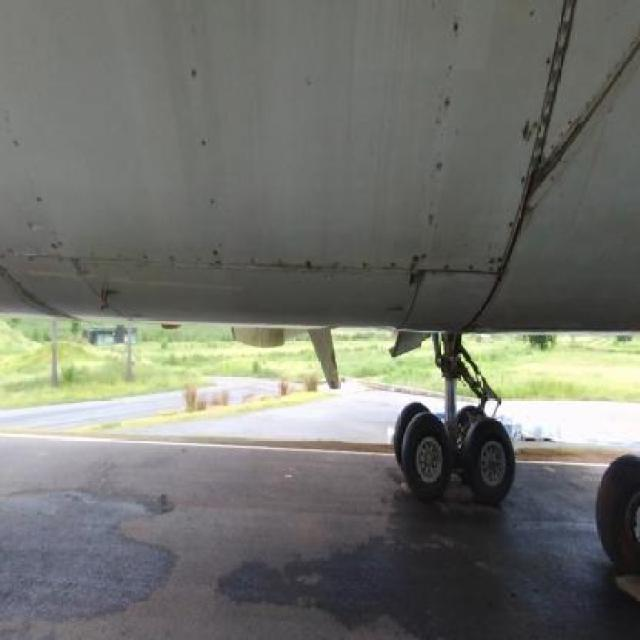Missing-Rivet: (187, 242, 508, 312), (169, 24, 249, 253), (424, 18, 474, 260)
